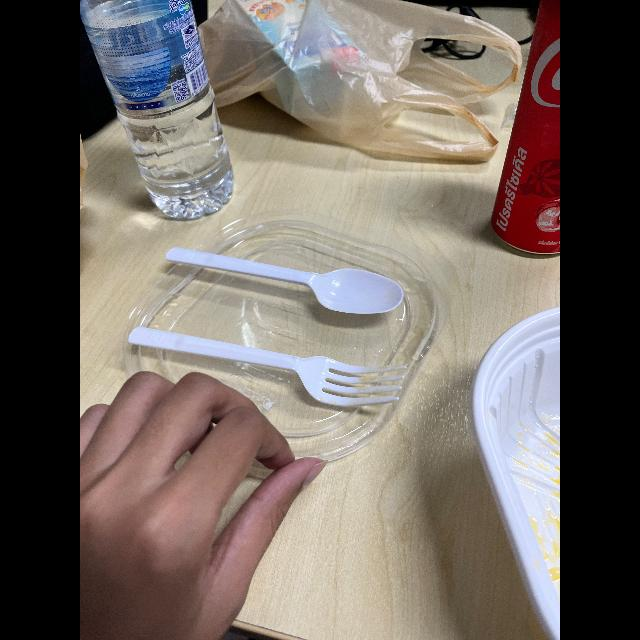plastic_cultery: (123, 313, 413, 413), (156, 245, 410, 319)
